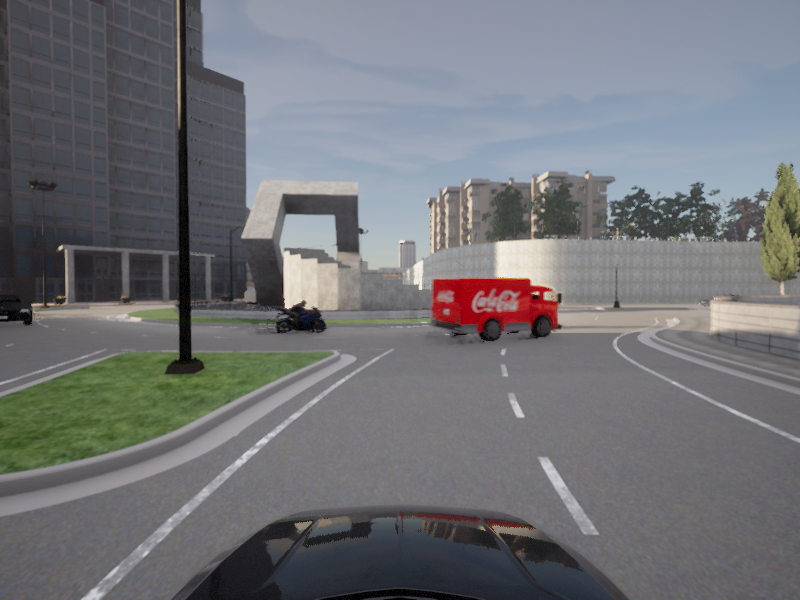vehicle: (427, 277, 570, 345), (274, 300, 327, 335), (0, 294, 34, 329)
